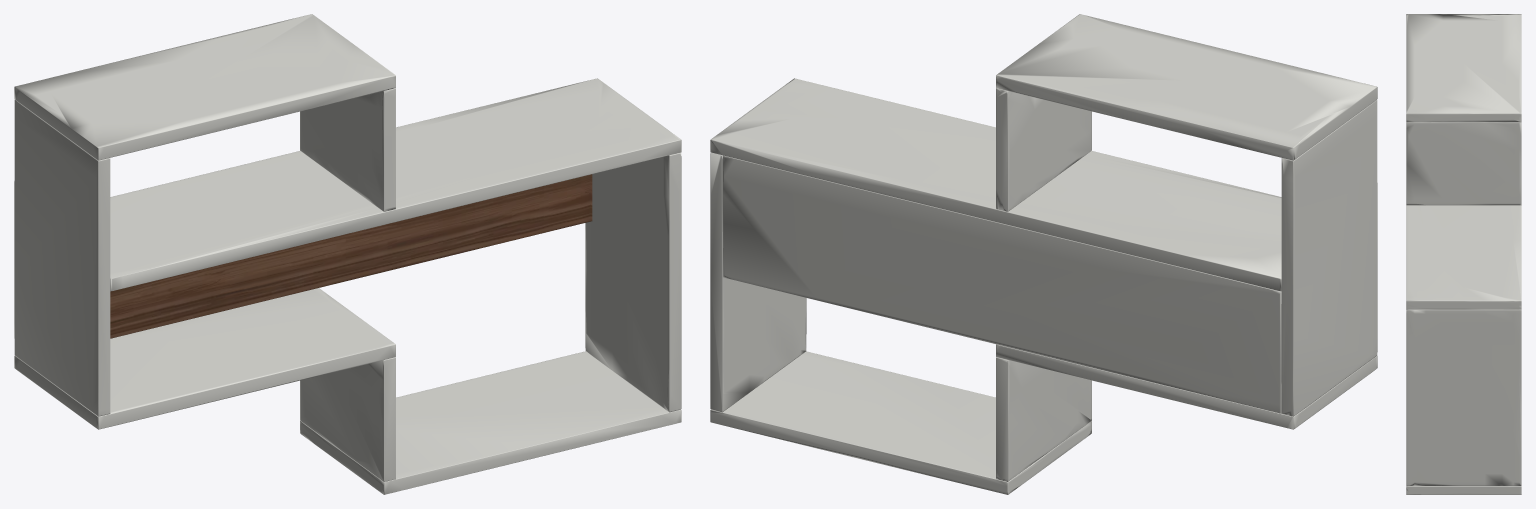
The model's file is wall_shelf_floating_unit_render_at.glb.
The picture shows the model from 3 angles, left to right: view 1: azimuth 30°, elevation 25°; view 2: azimuth 150°, elevation 25°; view 3: azimuth 270°, elevation 25°; orthographic projection. The views are drawn at different scales.
Parts seen in each view (by area): view 1: Object_3, Object_2; view 2: Object_3; view 3: Object_3.
Part boxes in pixels (bbox=[...]): Object_3: bbox=[14, 14, 681, 494]; Object_2: bbox=[110, 174, 592, 338]; Object_3: bbox=[710, 14, 1377, 494]; Object_3: bbox=[1406, 14, 1521, 494].
Bounding box in the file's own units: 0.801 × 0.5472 × 0.1999.
2 materials, 1 textured.
